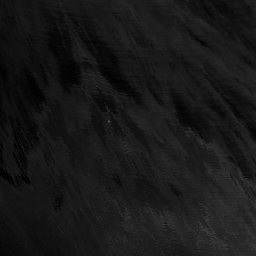Target: (106, 119, 111, 124)
